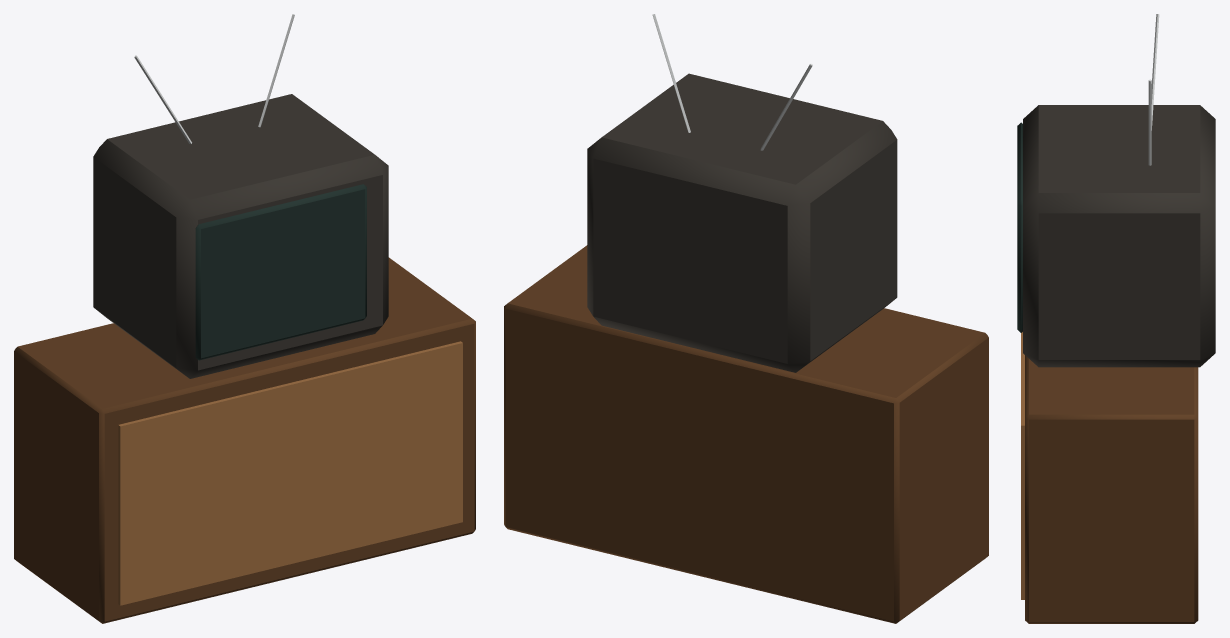
Rendered from crt_tv.glb.
3 renders of one model, left to right at view 1: azimuth 30°, elevation 25°; view 2: azimuth 150°, elevation 25°; view 3: azimuth 270°, elevation 25°, orthographic. The views are drawn at different scales.
Parts seen in each view (by area): view 1: CrtTv; view 2: CrtTv; view 3: CrtTv.
Boxes of the visible parts, x1,y1,x2,y2 form: CrtTv: (14, 14, 475, 623); CrtTv: (504, 14, 988, 623); CrtTv: (1017, 14, 1215, 623).
Size of the model in its own units: 1.1 by 1.4 by 0.515.
